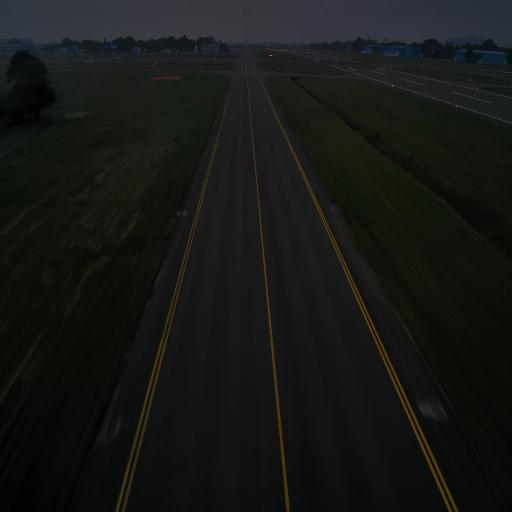on: (331, 204, 334, 210), (184, 207, 186, 213)
